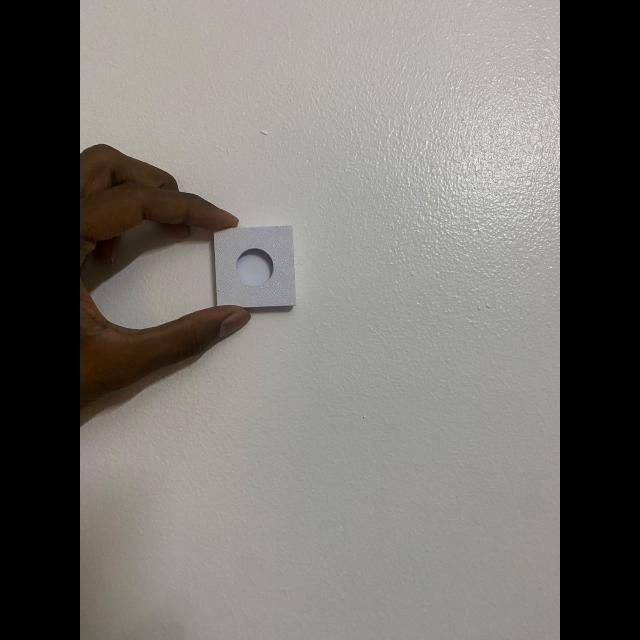RASPBERY PI CAM ENCLOSURE: (214, 226, 296, 312)
